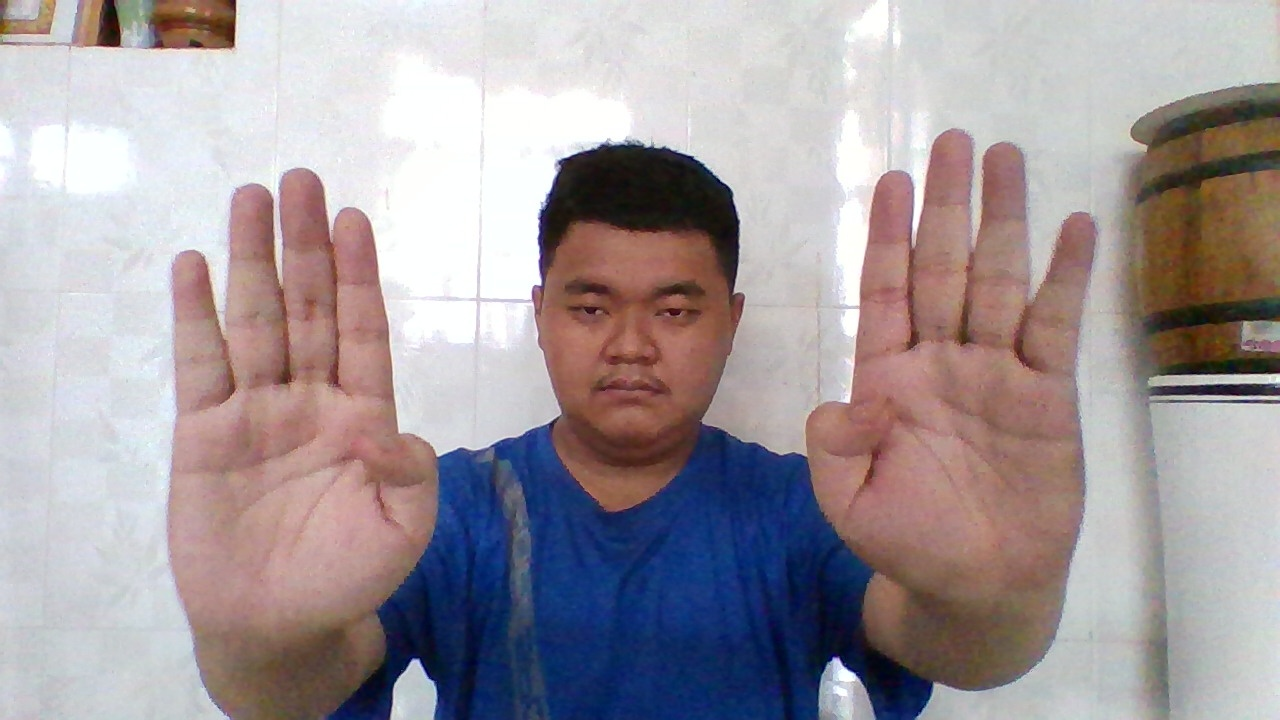B: (801, 129, 1099, 616), (171, 168, 435, 672)
